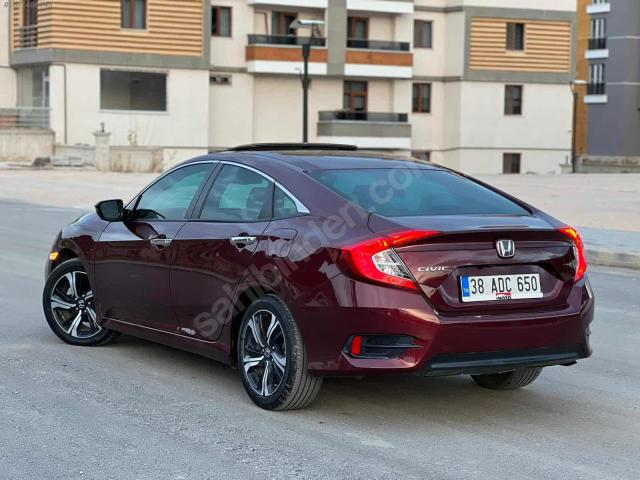plaka: (461, 274, 543, 302)
